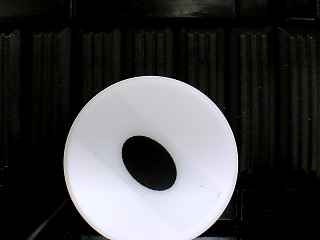BOHOEL: (62, 75, 239, 240)
